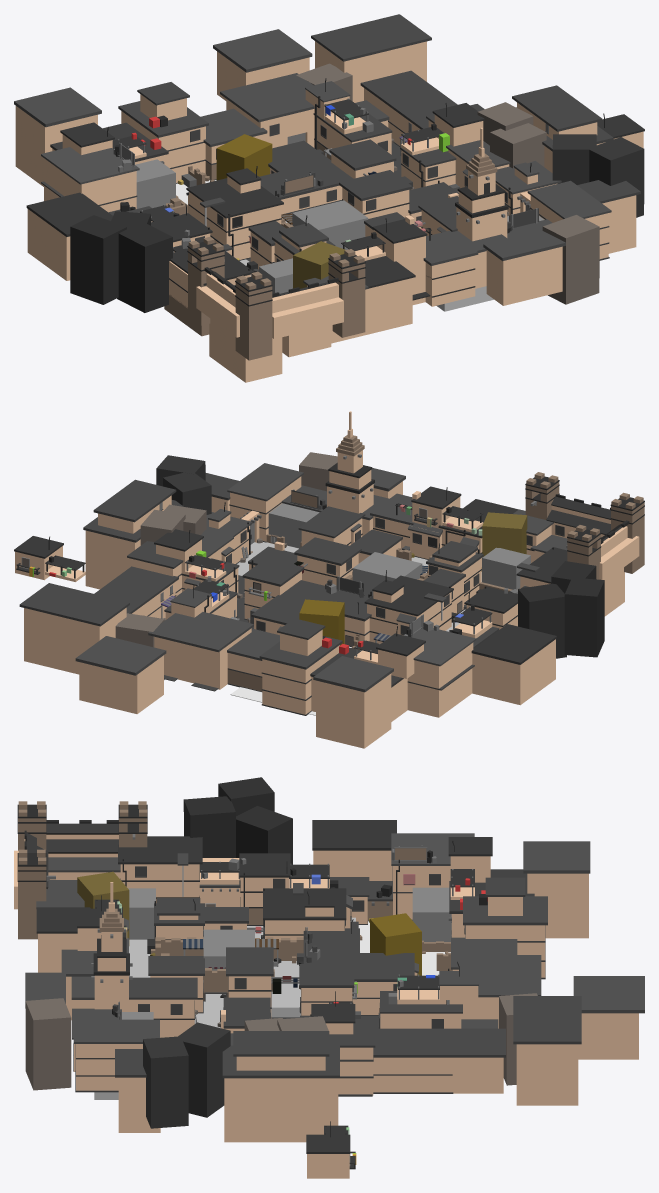
File: Sandstorm.obj
3 views of the same model, one above another, from view 1: azimuth 30°, elevation 25°; view 2: azimuth 150°, elevation 25°; view 3: azimuth 270°, elevation 25° (orthographic). The views are drawn at different scales.
Size of the model in its own units: 1023 by 273 by 886.
